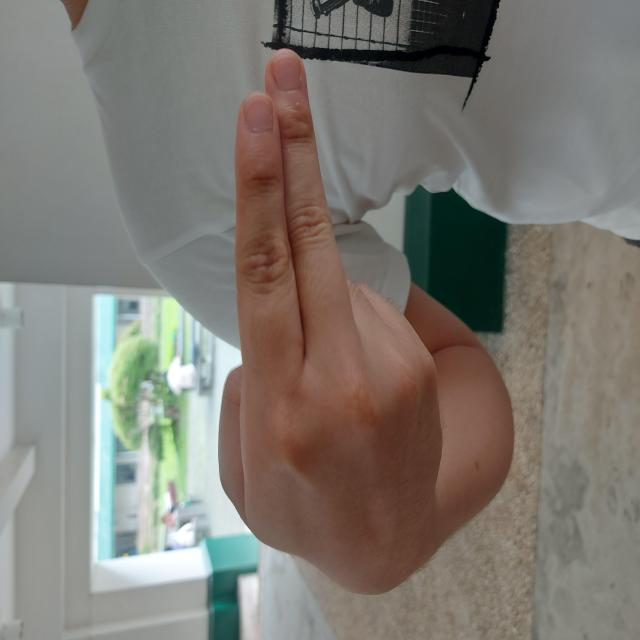H: (41, 216, 594, 448)
